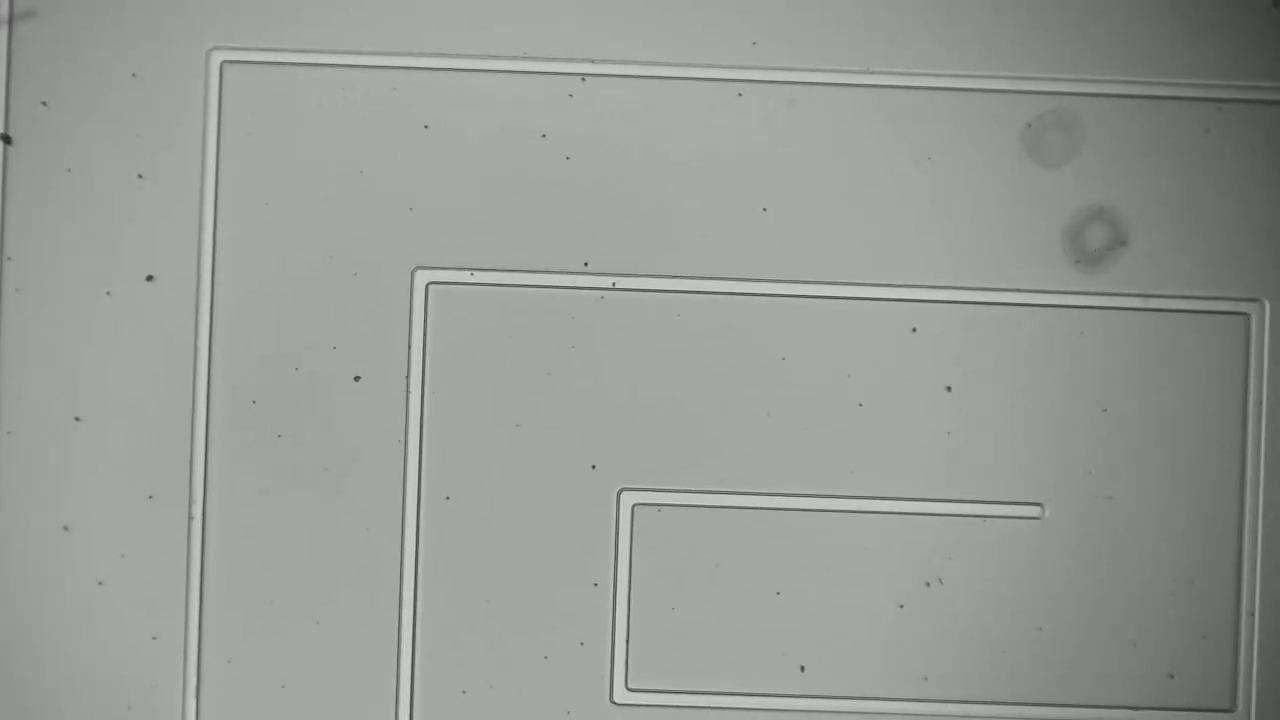stains_enbedded: (1, 125, 22, 156)
